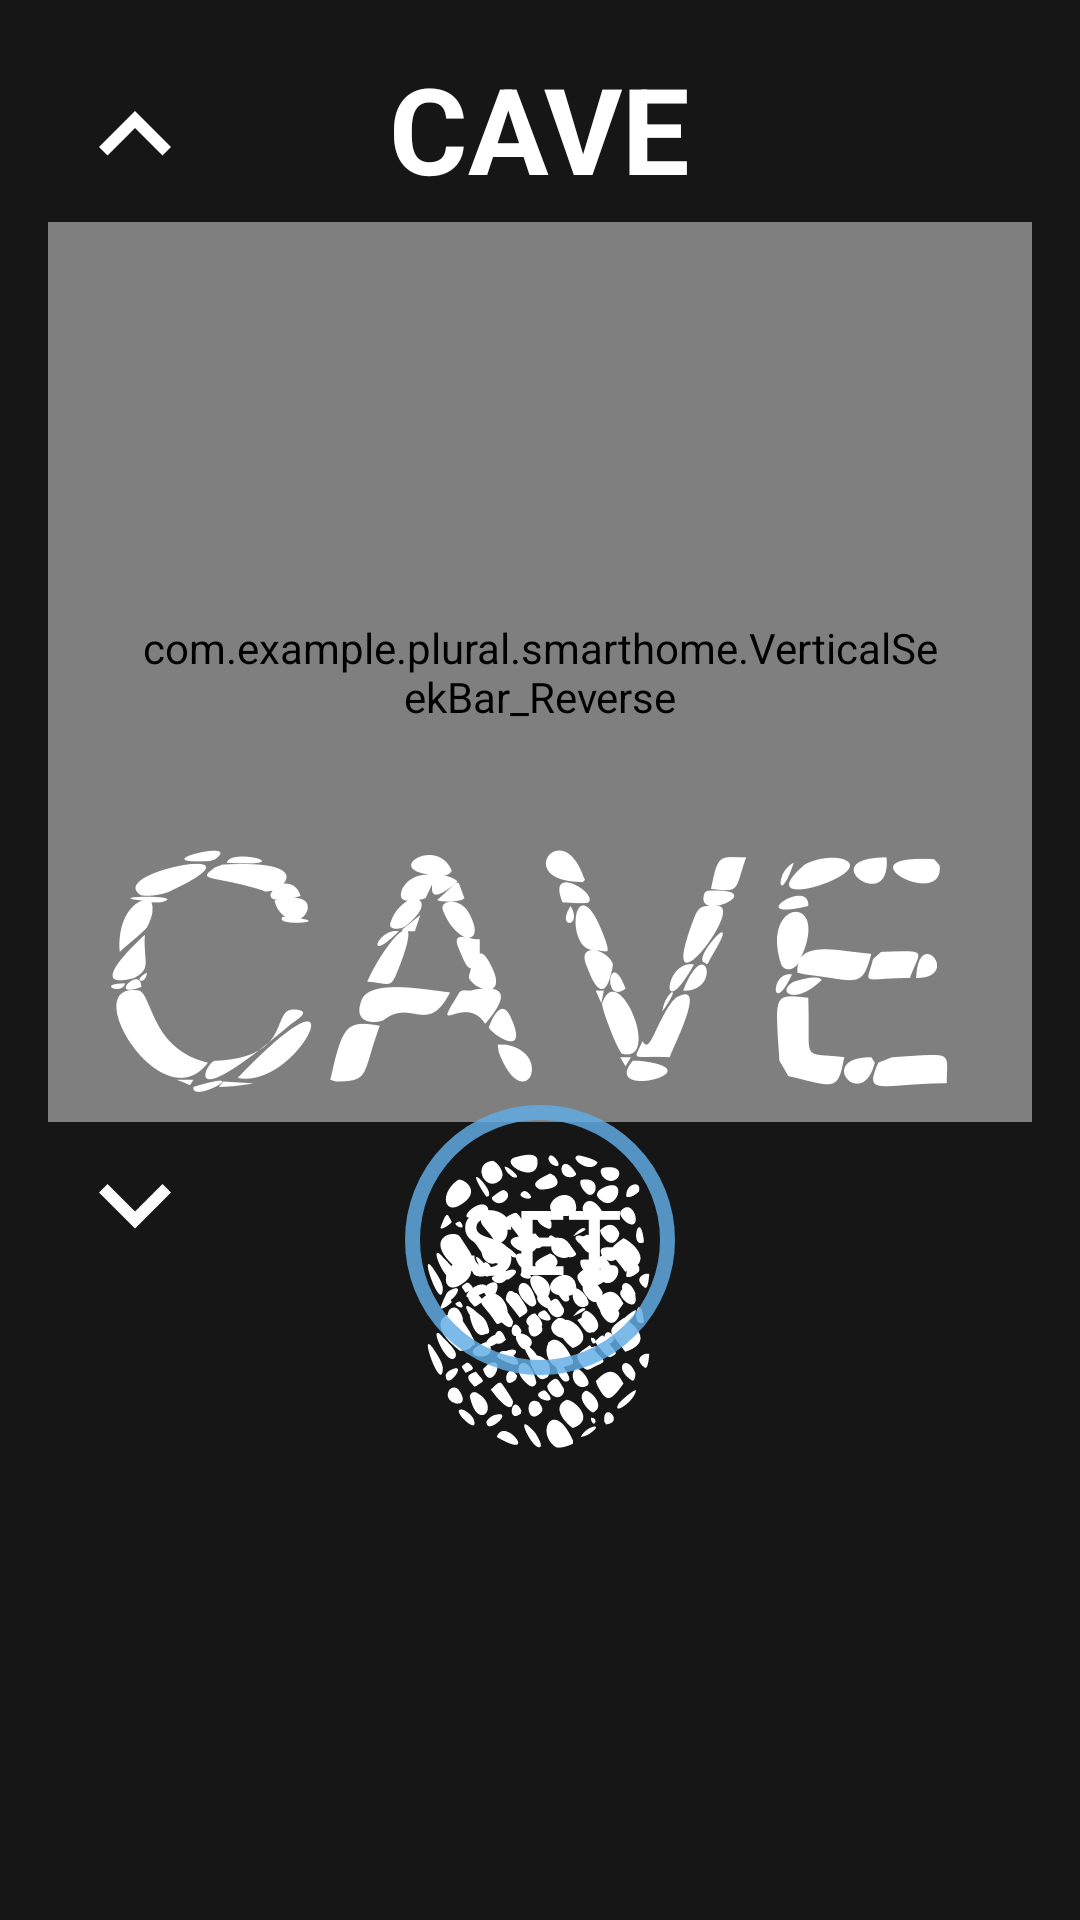

Point at icon controls on the screen. Image size 1080px×1920px, points as (x=x, y=y).
down: (x=135, y=1206)
